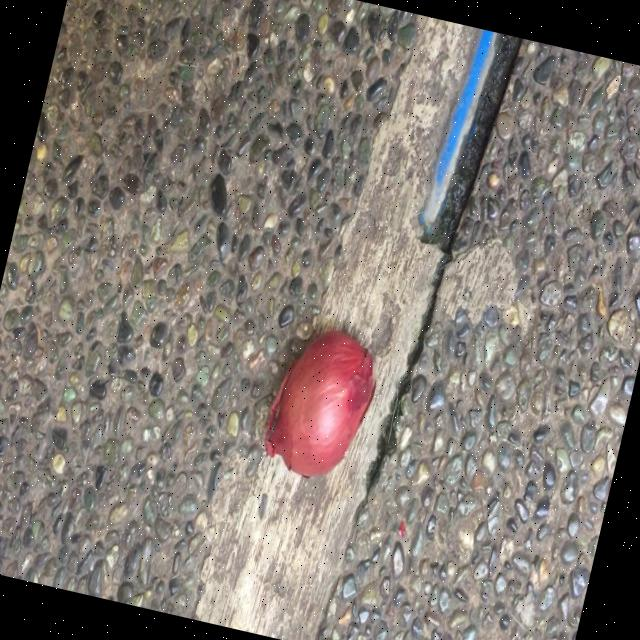Onion: (264, 330, 374, 476)
